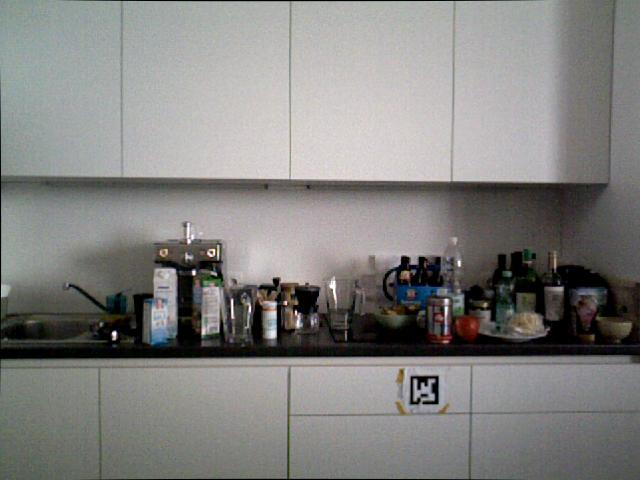bench: (192, 274, 221, 342), (541, 250, 565, 330), (154, 267, 178, 342), (515, 248, 538, 314), (441, 236, 463, 290), (495, 251, 508, 323), (498, 271, 512, 335), (412, 257, 428, 286), (400, 258, 412, 282)
bicycle: (454, 314, 479, 341)
bird: (598, 317, 632, 343), (376, 305, 411, 330)
couch: (0, 312, 132, 344)
handbag: (220, 282, 256, 346), (325, 276, 361, 328), (104, 291, 127, 321)
